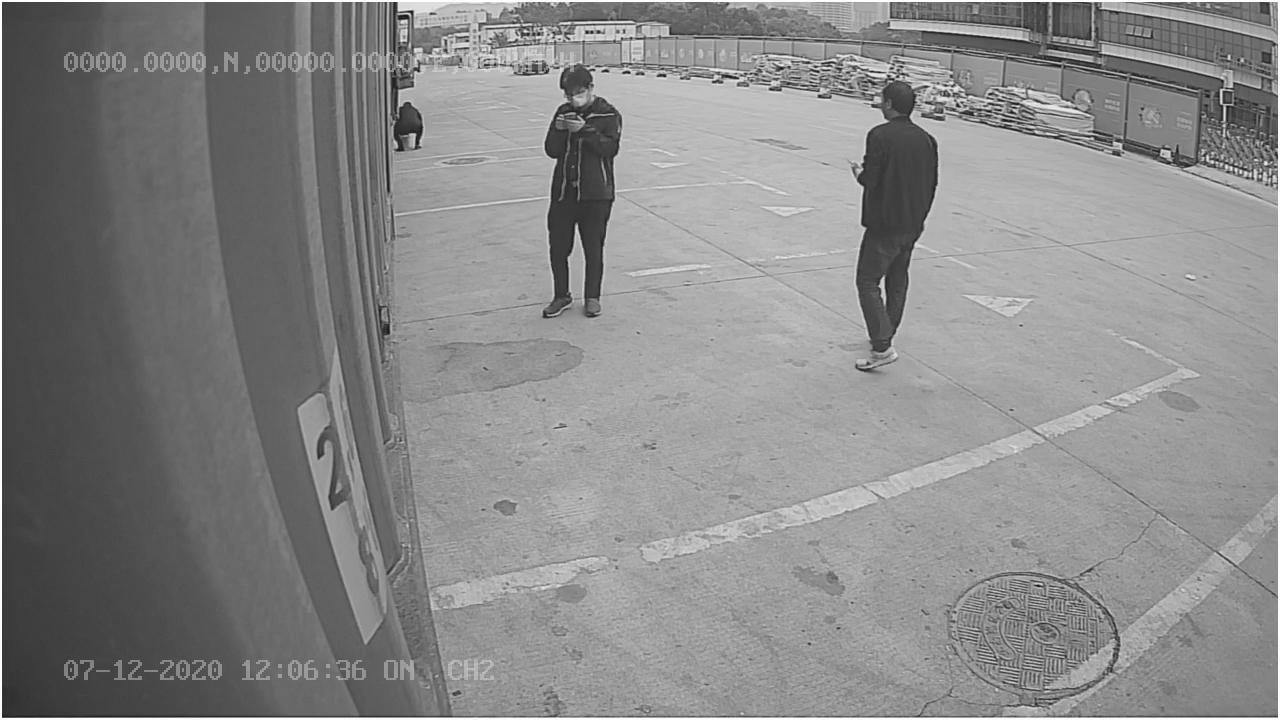person: (840, 78, 944, 371), (536, 55, 623, 321)
